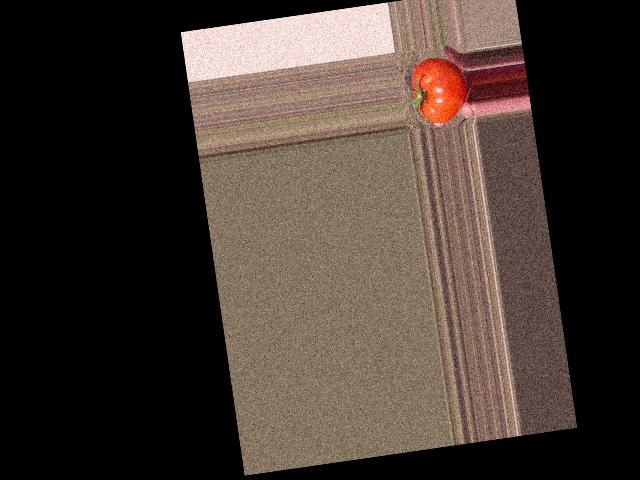tomato: (407, 53, 472, 126)
